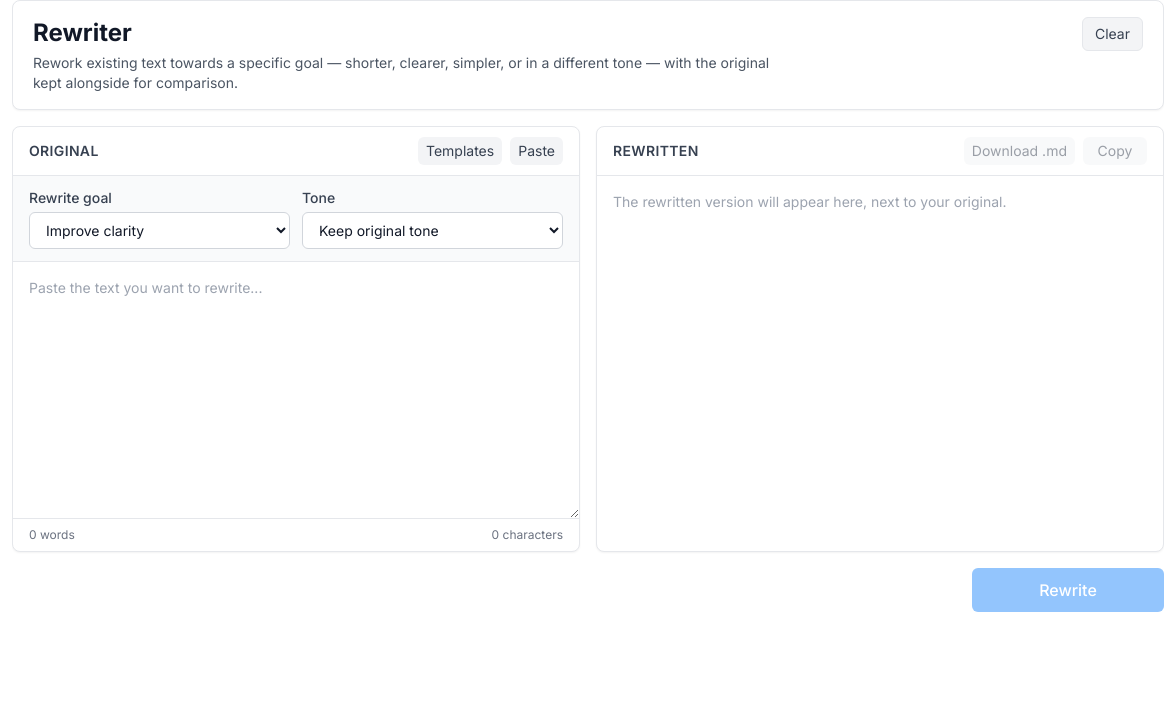
Test: current context from every text page › Rewriter sends its current controls and source to its own endpoint
The image size is (1176, 720).
Type "The project is due on Monday." into the text box with placeholder "Paste the text you want to rewrite..." at point(296, 390), box [13,262,579,518]
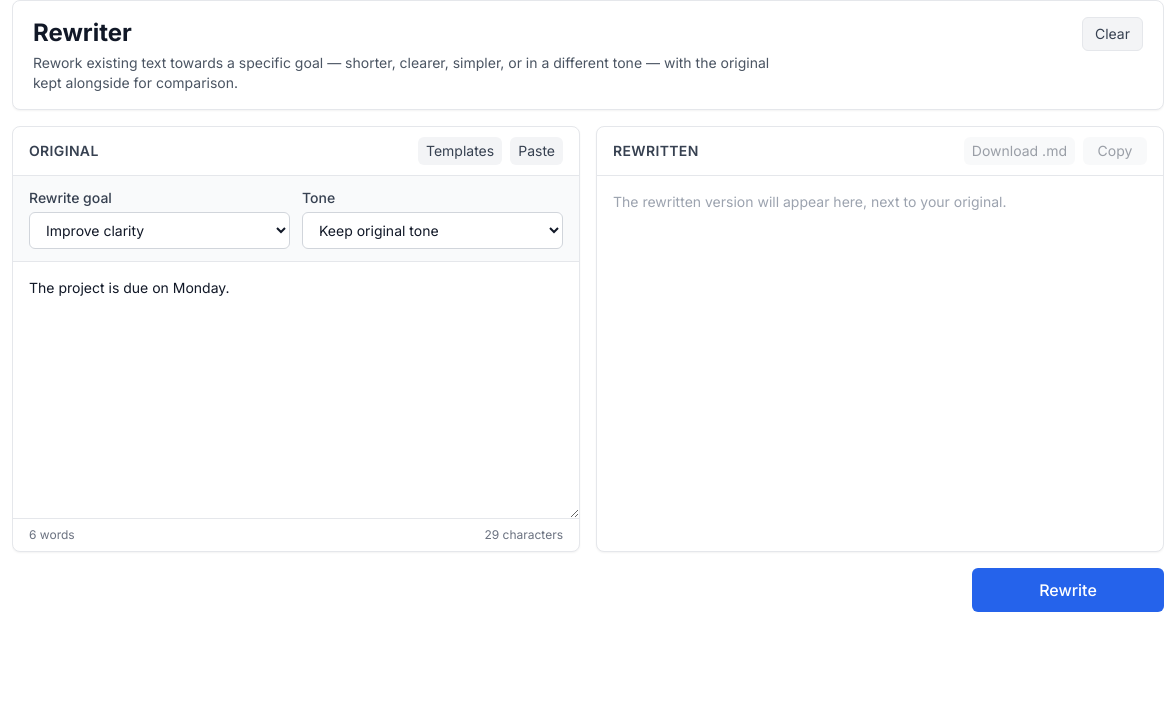
Select "Make it shorter" in the dropdown with id "rewrite-goal" at point(160, 230), box [29,212,290,249]
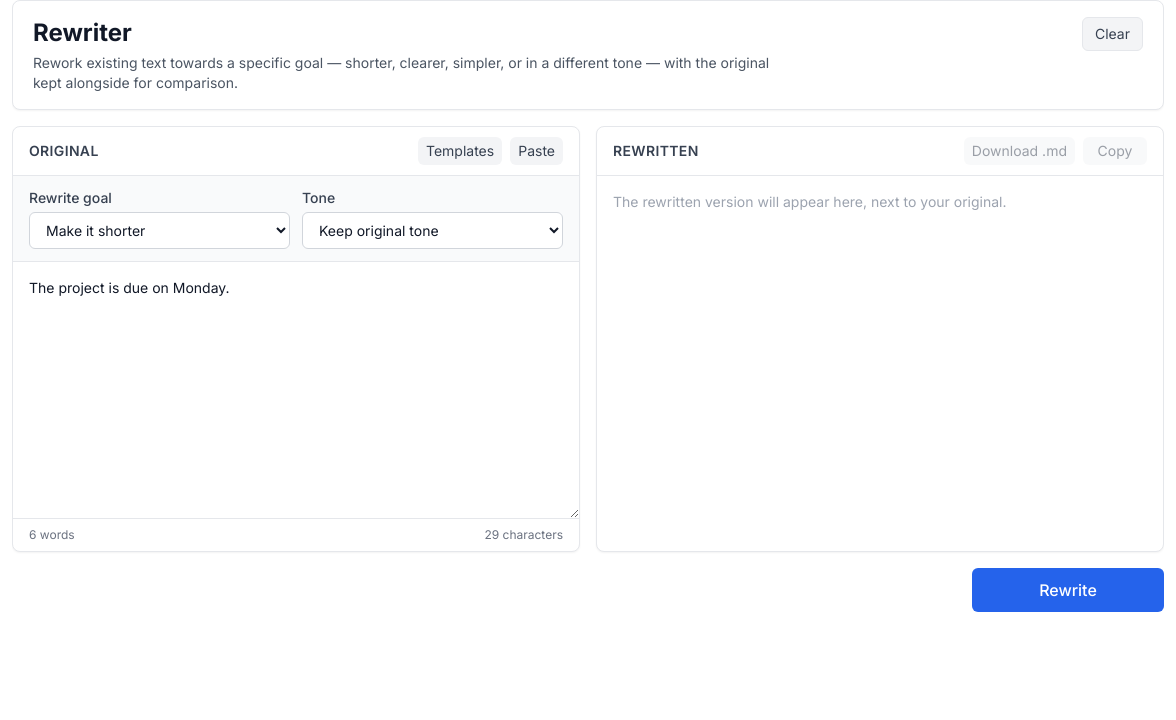
Select "Formal" in the dropdown with id "rewrite-tone" at point(432, 230), box [302,212,563,249]
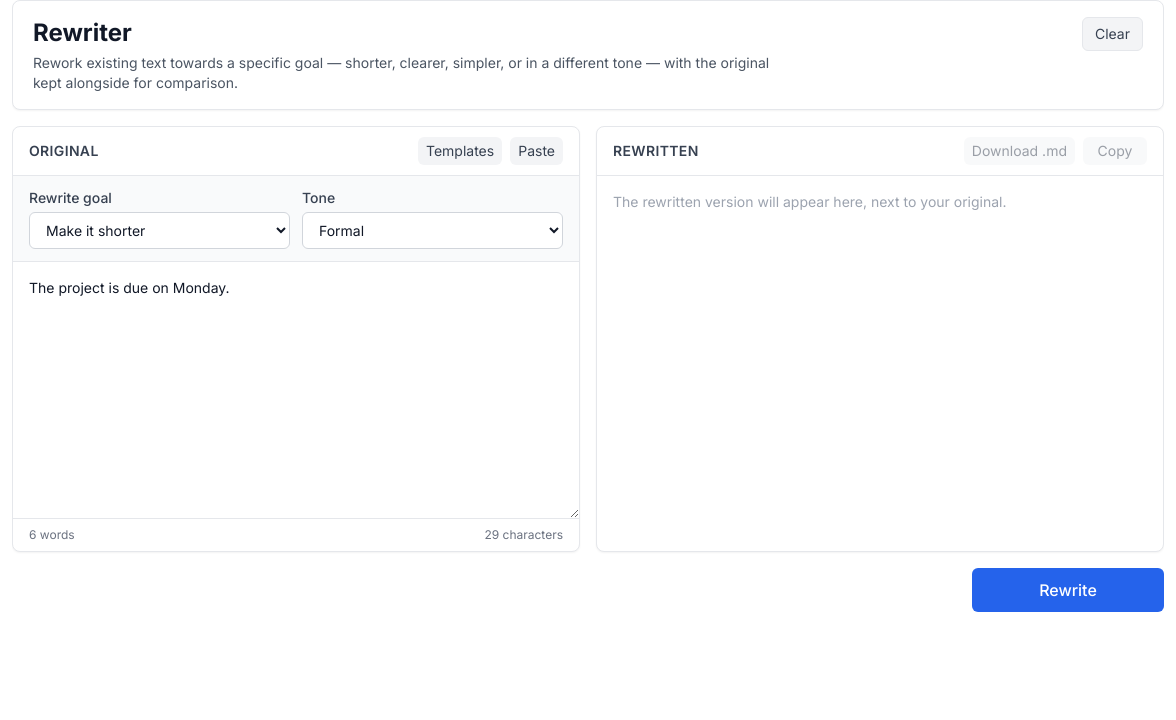
Click the button "Rewrite" at point(1068, 590), box [972,568,1164,612]
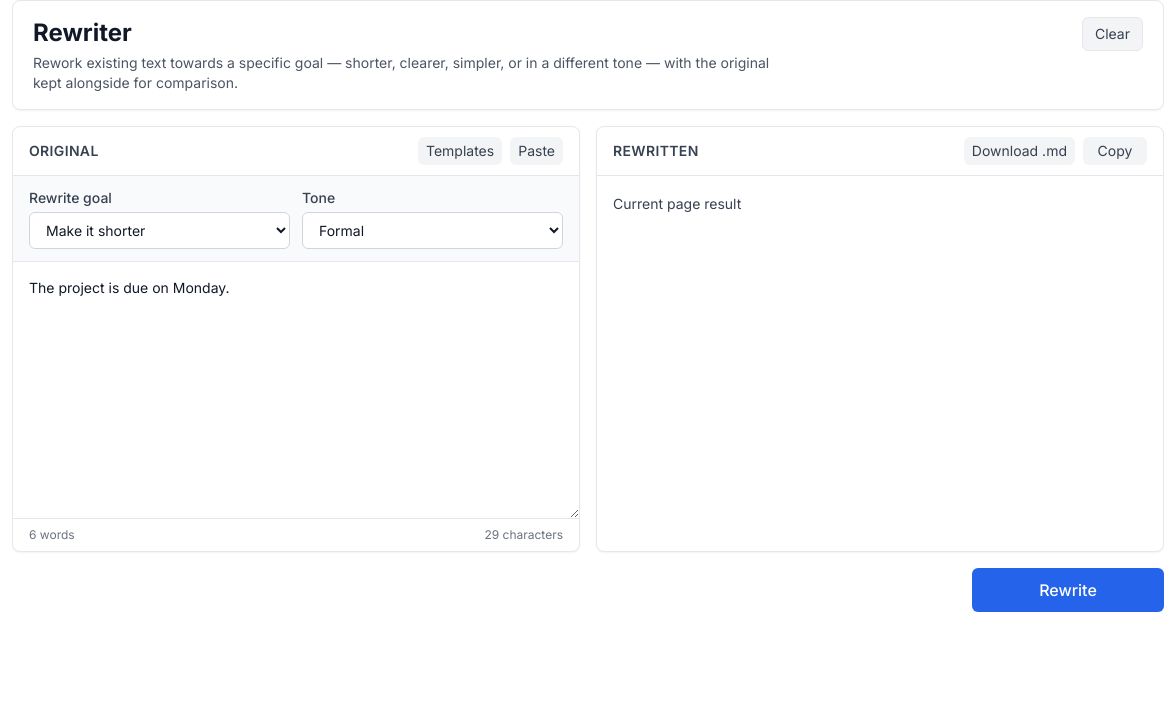
Result: the text "Current page result" is shown at [613,195,741,212]
